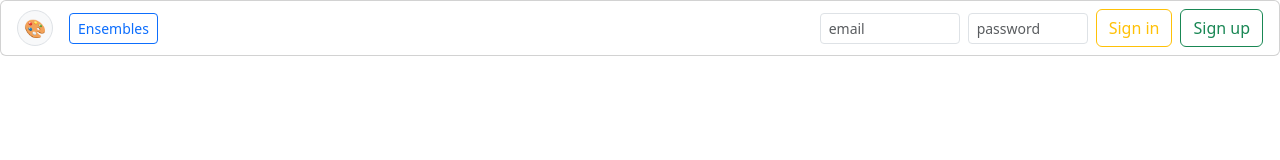
Test: Auth UI › login failure displays error
Step 1. Type "bad@example.com" into the field with placeholder "email" → (890, 28), box [820,12,960,44]
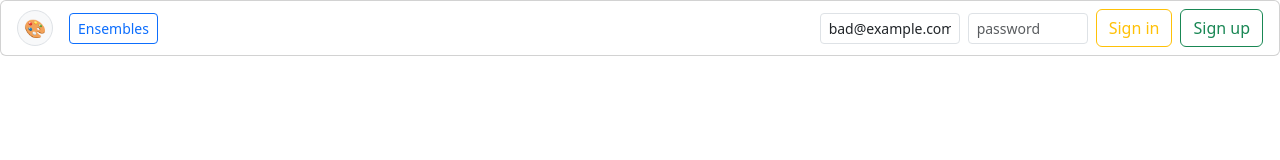
Step 2. Type "wrong" into the password field with placeholder "password" → (1028, 28), box [968,12,1088,44]
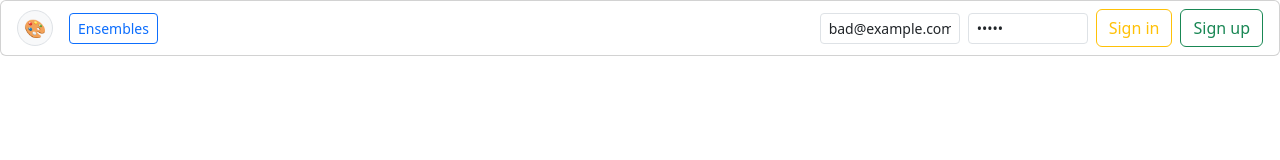
Step 3. Click the button "Sign in" → (1134, 28), box [1096,9,1172,47]
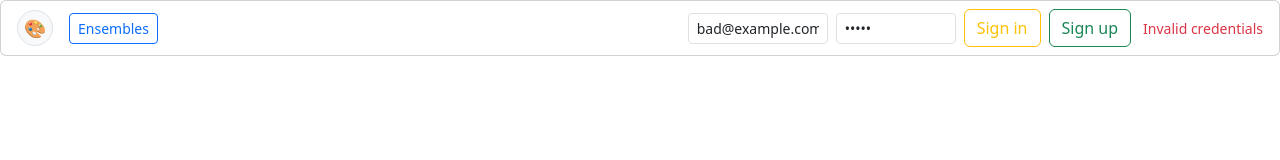
Expected: the text "Invalid credentials" is shown, [1143,18,1263,38]
